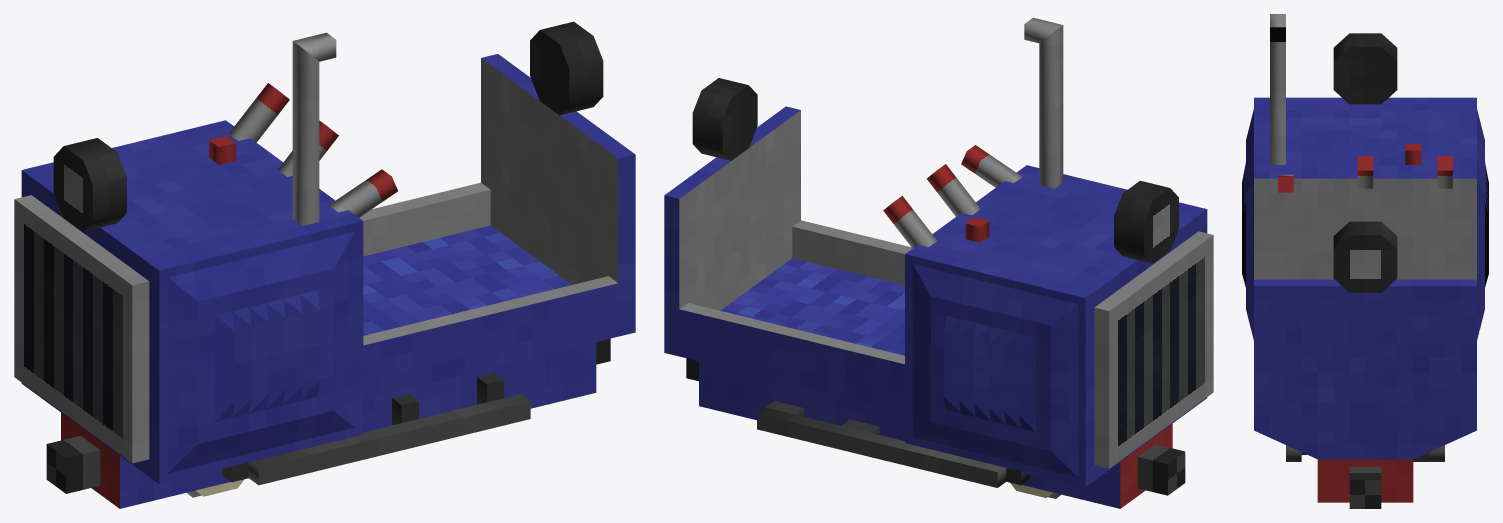
File: zld6.obj
3 views of the same model, side by side, from view 1: azimuth 30°, elevation 25°; view 2: azimuth 150°, elevation 25°; view 3: azimuth 270°, elevation 25° (orthographic). The views are drawn at different scales.
Parts seen in each view (by area): view 1: FRAME.001, FRAME.002, SEAT_1, FRAME, SIDE_ROD_LEFT, FRAME.exhaust, FRAME.004, FRAME.003, FRAME.couple, REVERSER_1_LABEL_Reverser, IND_BRAKE_1_LABEL_Loco^Brake, WHEEL_DRIVER_1 (+2 smaller); view 2: FRAME.001, FRAME.002, SEAT_1, FRAME, SIDE_ROD_RIGHT, FRAME.exhaust, FRAME.004, FRAME.003, FRAME.couple, REVERSER_1_LABEL_Reverser, THROTTLE_BRAKE_1_LABEL_Throttle^Brake, IND_BRAKE_1_LABEL_Loco^Brake (+1 smaller); view 3: FRAME.001, FRAME.002, FRAME.004, FRAME.003, FRAME, FRAME.exhaust, FRAME.couple.001, THROTTLE_BRAKE_1_LABEL_Throttle^Brake, REVERSER_1_LABEL_Reverser, HORN_CONTROL_1_PRESS_TL_-0.03125_Y_LABEL_Horn, IND_BRAKE_1_LABEL_Loco^Brake.
Boxes of the visible parts, x1,y1,x2,y2 form: FRAME.001: (14,120,363,484); FRAME.002: (359,54,635,398); SEAT_1: (363,225,571,335); FRAME: (61,342,596,508); SIDE_ROD_LEFT: (248,394,530,485); FRAME.exhaust: (292,32,336,225); FRAME.004: (530,21,603,115); FRAME.003: (53,138,126,231); FRAME.couple: (46,436,100,493); REVERSER_1_LABEL_Reverser: (229,83,289,142); IND_BRAKE_1_LABEL_Loco^Brake: (329,169,397,217); WHEEL_DRIVER_1: (187,462,248,497); FRAME.001: (905,165,1213,486); FRAME.002: (664,106,912,411); SEAT_1: (720,258,904,355); FRAME: (699,361,1172,508); SIDE_ROD_RIGHT: (757,407,1006,487); FRAME.exhaust: (1024,17,1063,188); FRAME.004: (692,78,757,160); FRAME.003: (1114,180,1178,263); FRAME.couple: (1137,444,1185,495); REVERSER_1_LABEL_Reverser: (883,195,937,248); THROTTLE_BRAKE_1_LABEL_Throttle^Brake: (926,164,980,216); IND_BRAKE_1_LABEL_Loco^Brake: (961,145,1022,187); FRAME.001: (1242,97,1488,339); FRAME.002: (1254,279,1476,459); FRAME.004: (1333,221,1397,292); FRAME.003: (1333,33,1397,104); FRAME: (1317,459,1413,502); FRAME.exhaust: (1270,14,1285,164); FRAME.couple.001: (1349,466,1381,508); THROTTLE_BRAKE_1_LABEL_Throttle^Brake: (1357,156,1373,188); REVERSER_1_LABEL_Reverser: (1437,156,1452,188); HORN_CONTROL_1_PRESS_TL_-0.03125_Y_LABEL_Horn: (1405,144,1421,164); IND_BRAKE_1_LABEL_Loco^Brake: (1278,174,1293,192).
Size of the model in its own units: 2 by 1.66 by 0.9688.
Materials: 5 (5 with a texture image).
